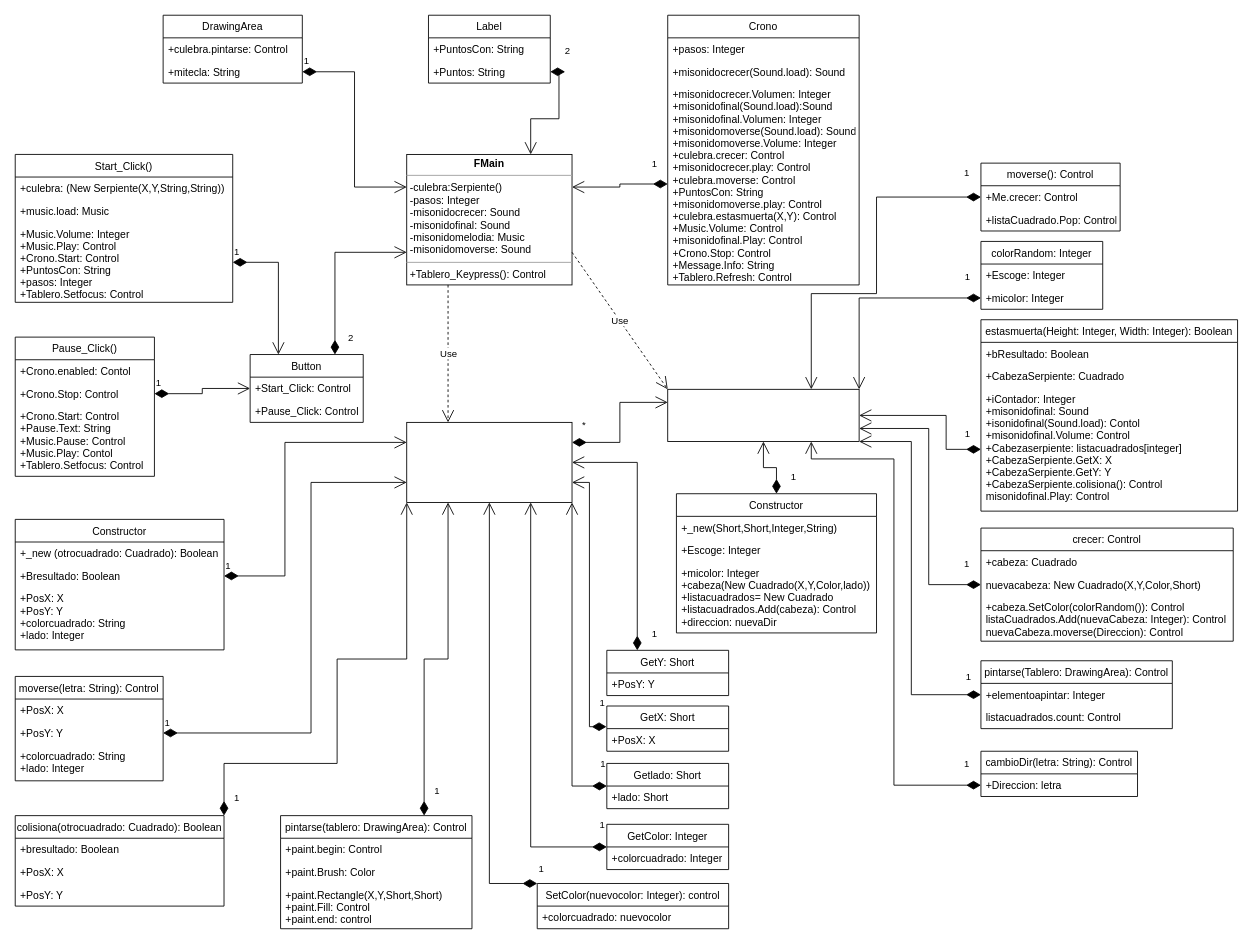
Some shapes in this 1253 by 947 pixel diagram are drawn without their labels. The centre of each missing label's shape, as x and y in pixels:
"Cuadrado -colorCuadrado: Integer -lado: Short -posX: Short -posY: Short" goes at (489,462).
"Serpiente -listaCuadrados: Cuadrado[ ] -direccion: String" goes at (763,415).
